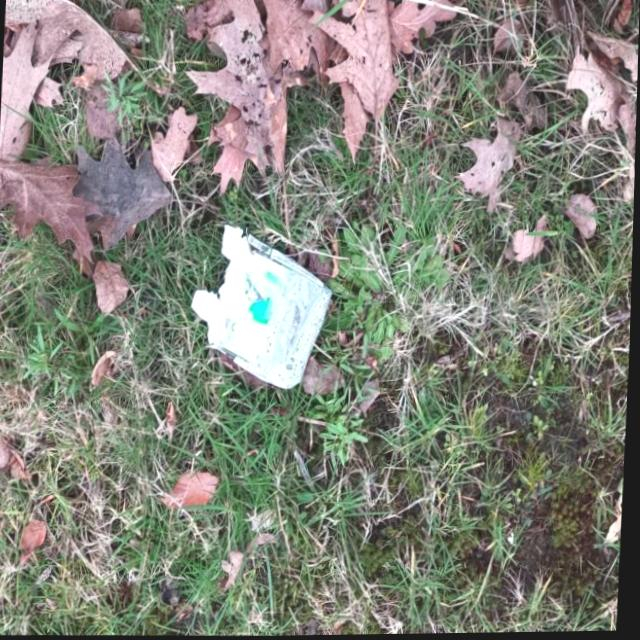Paper: (187, 219, 339, 394)
